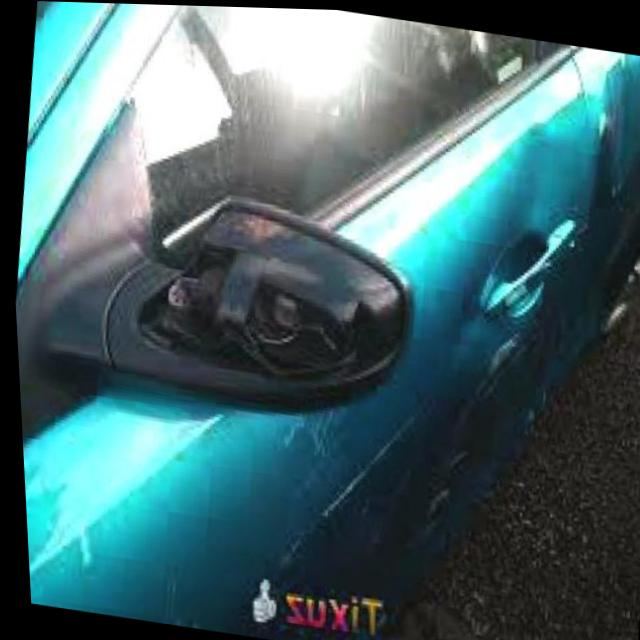Car-Damage: (490, 116, 592, 235), (577, 44, 640, 206)
